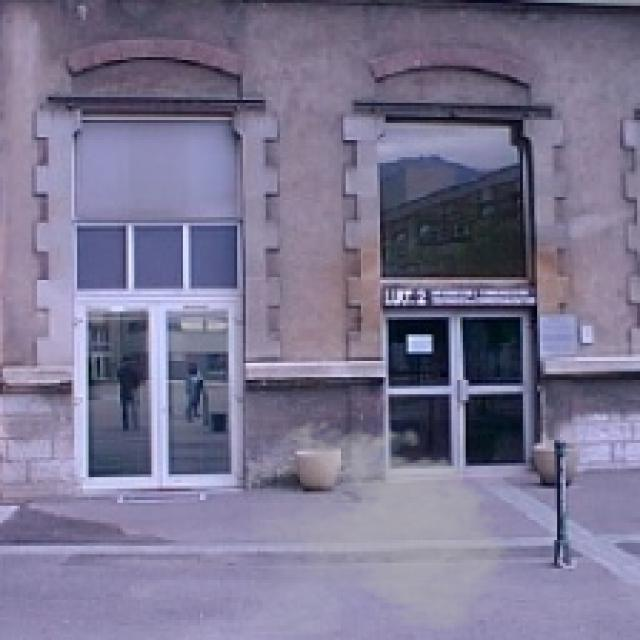Smoke: (251, 414, 523, 637)
